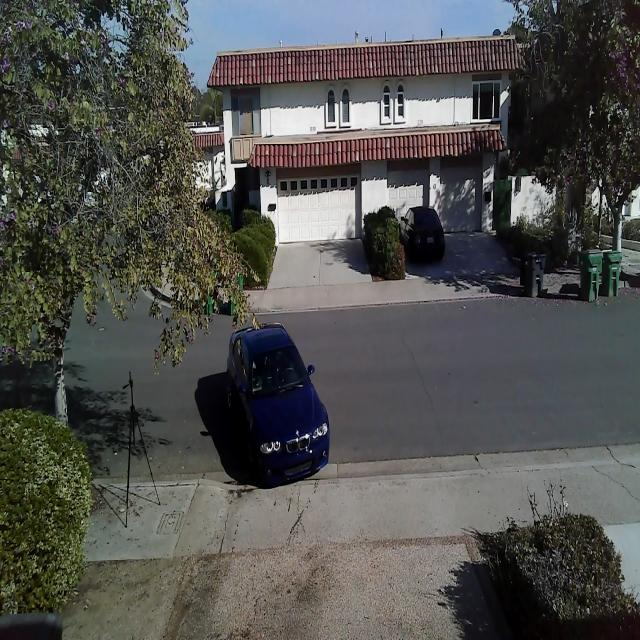Carbeetle: (214, 307, 335, 524)
